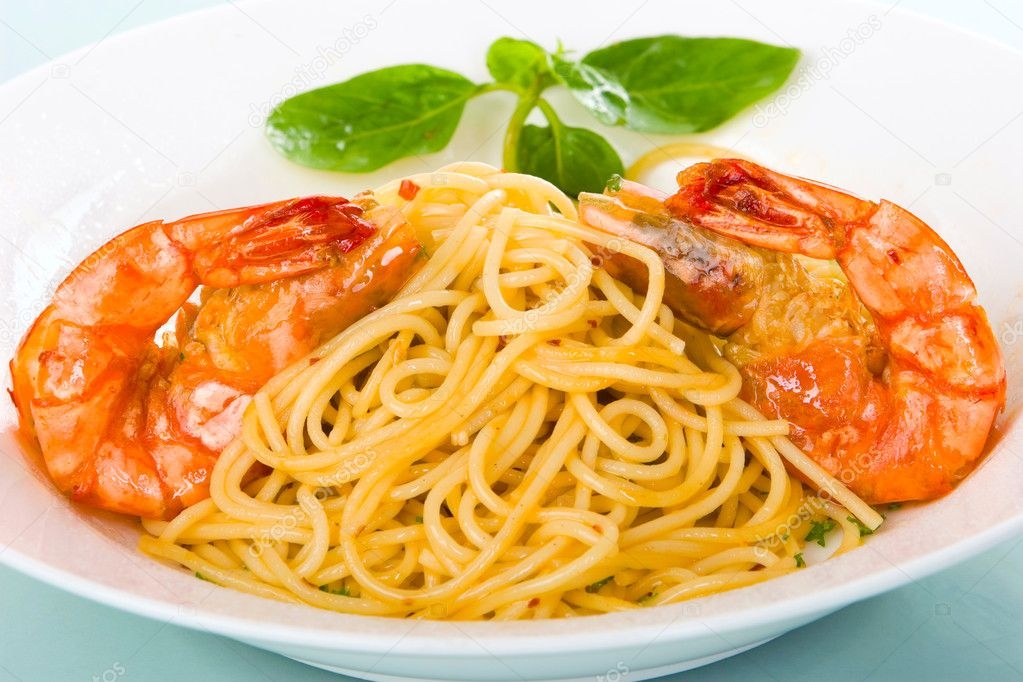plain spaghetti: (414, 195, 591, 605)
